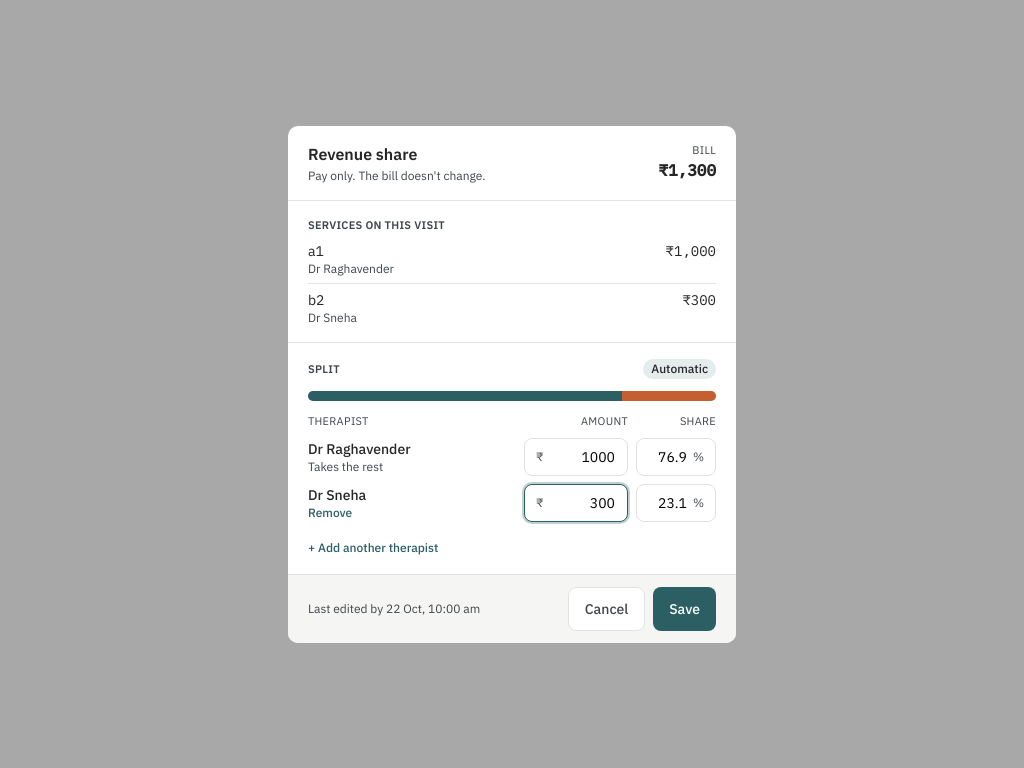
Scenario: RevenueShareEditor › shows Automatic only for a shared, untouched split; Edited once amounts are changed
Expected: the text "Automatic" is shown, [643,359,716,379]
Replace the text in the number field named "Dr Sneha share in rupees" with "500". click: (576, 502)
box: [524,484,628,522]
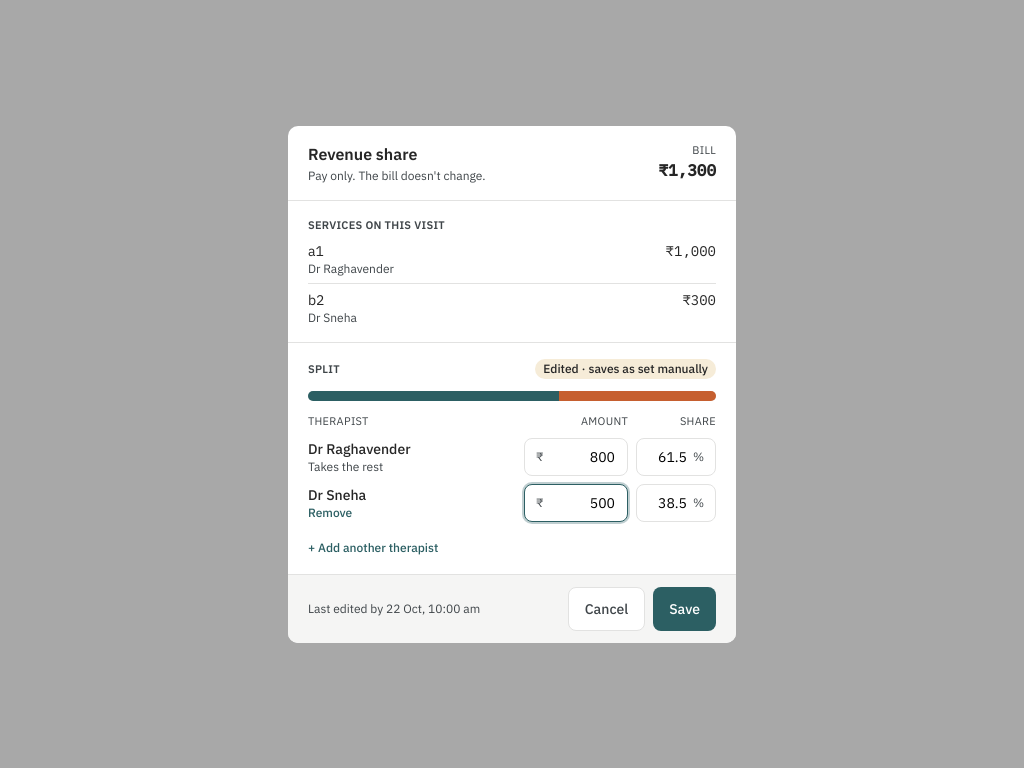
Result: the text "Automatic" is gone
Result: the text "Edited · saves as set manually" is shown at [535,359,716,379]
